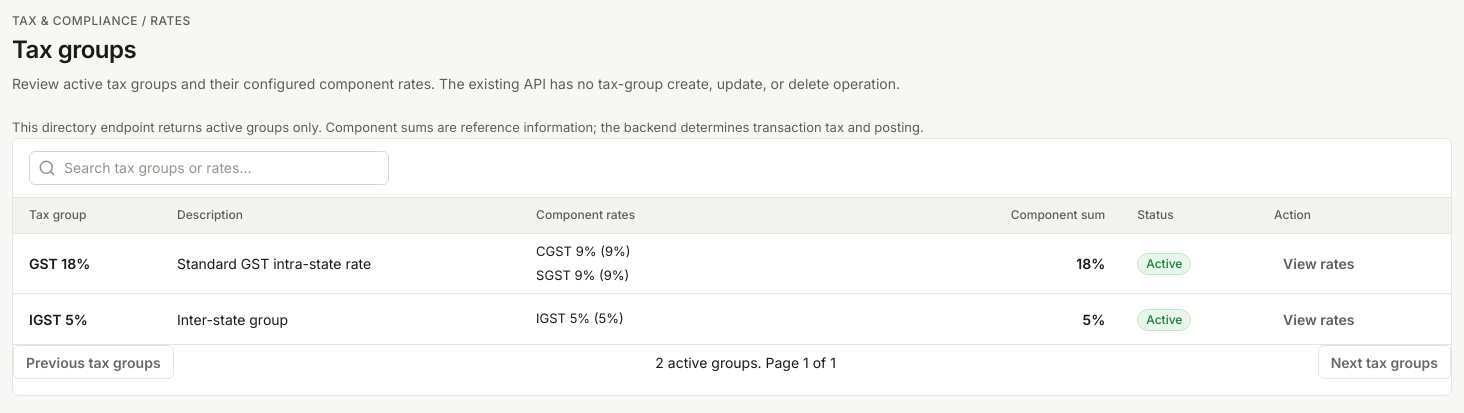
Test case: TaxGroupsPage › searches the active-only tax groups by component and name
Check: the text "GST 18%" is shown, box [29,255,90,272]
Type "IGST" into the search field with placeholder "Search tax groups or rates...".
click(222, 168); type("IGST")  # box [64,157,380,178]
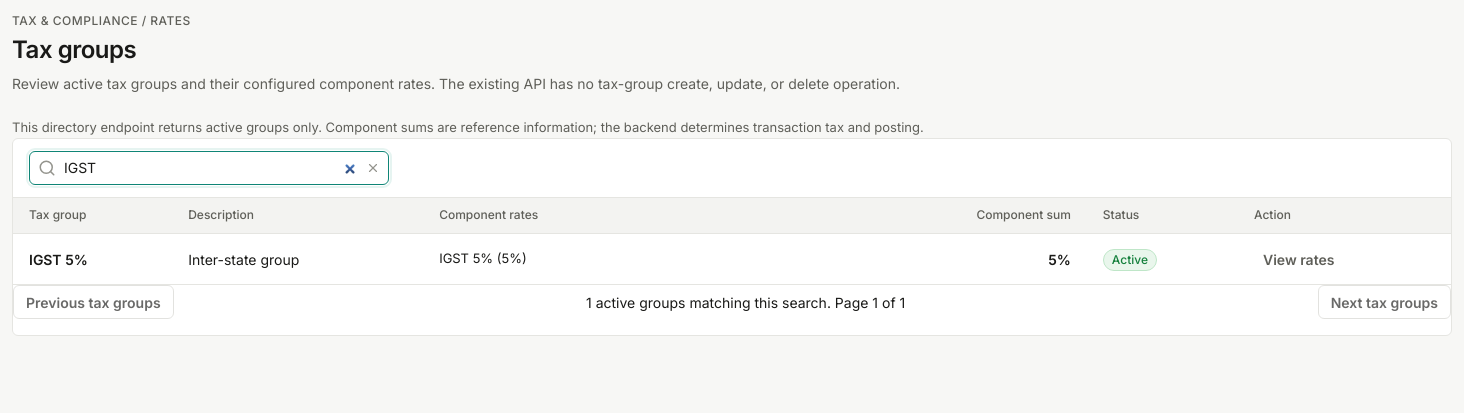
Check: the text "IGST 5%" is shown, box [29,251,88,268]
Check: the text "GST 18%" is gone
Click the button named "Clear search".
click(373, 168)  # box [366,161,380,175]
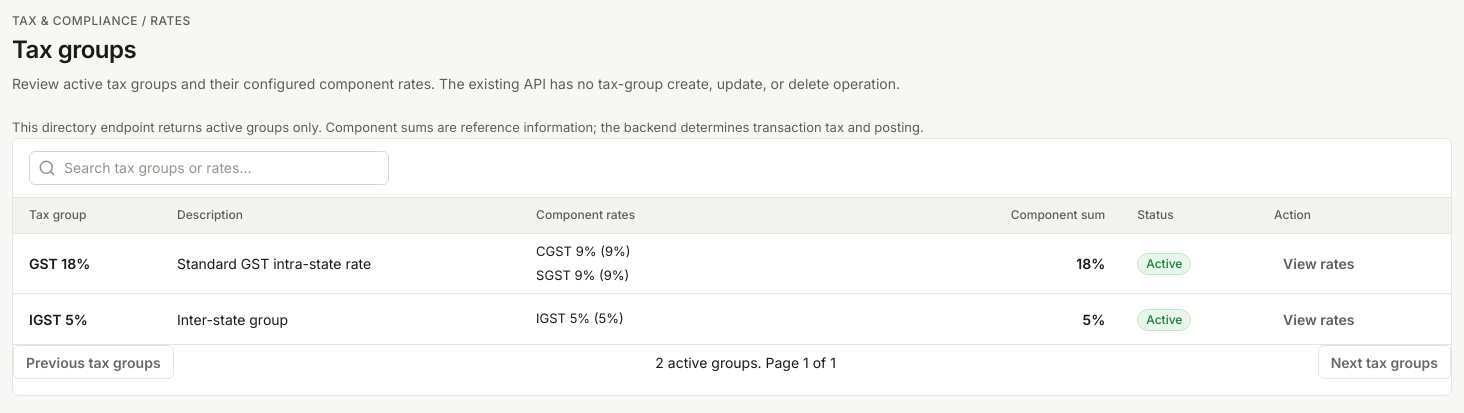
Check: the text "GST 18%" is shown, box [29,255,90,272]
